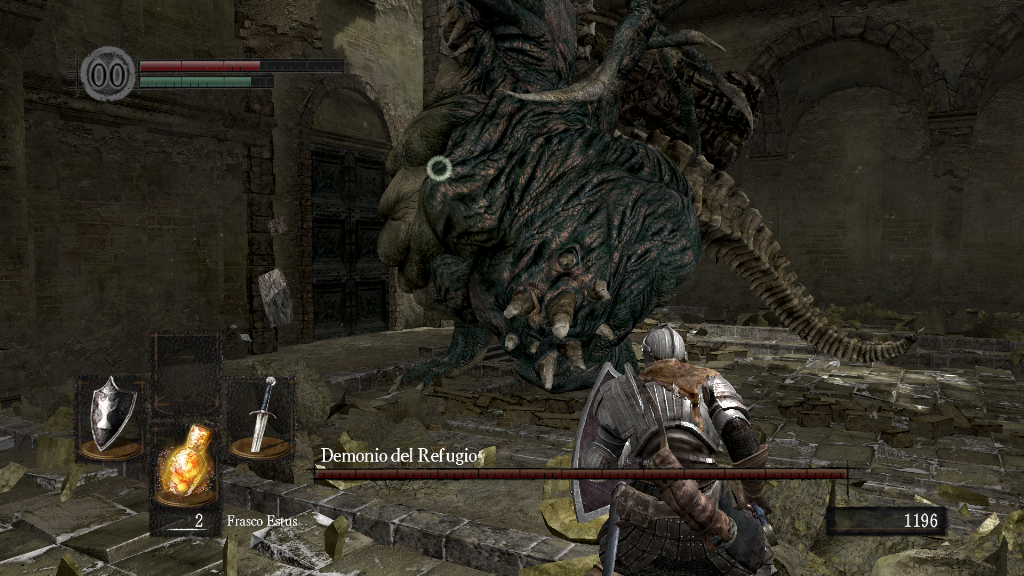asylumDemon: (372, 2, 921, 398)
bossHP: (314, 469, 847, 479)
health: (138, 58, 343, 71)
humanity: (80, 45, 136, 102)
player: (570, 323, 777, 576)
souls: (825, 506, 945, 536)
stamina: (138, 74, 274, 88)
